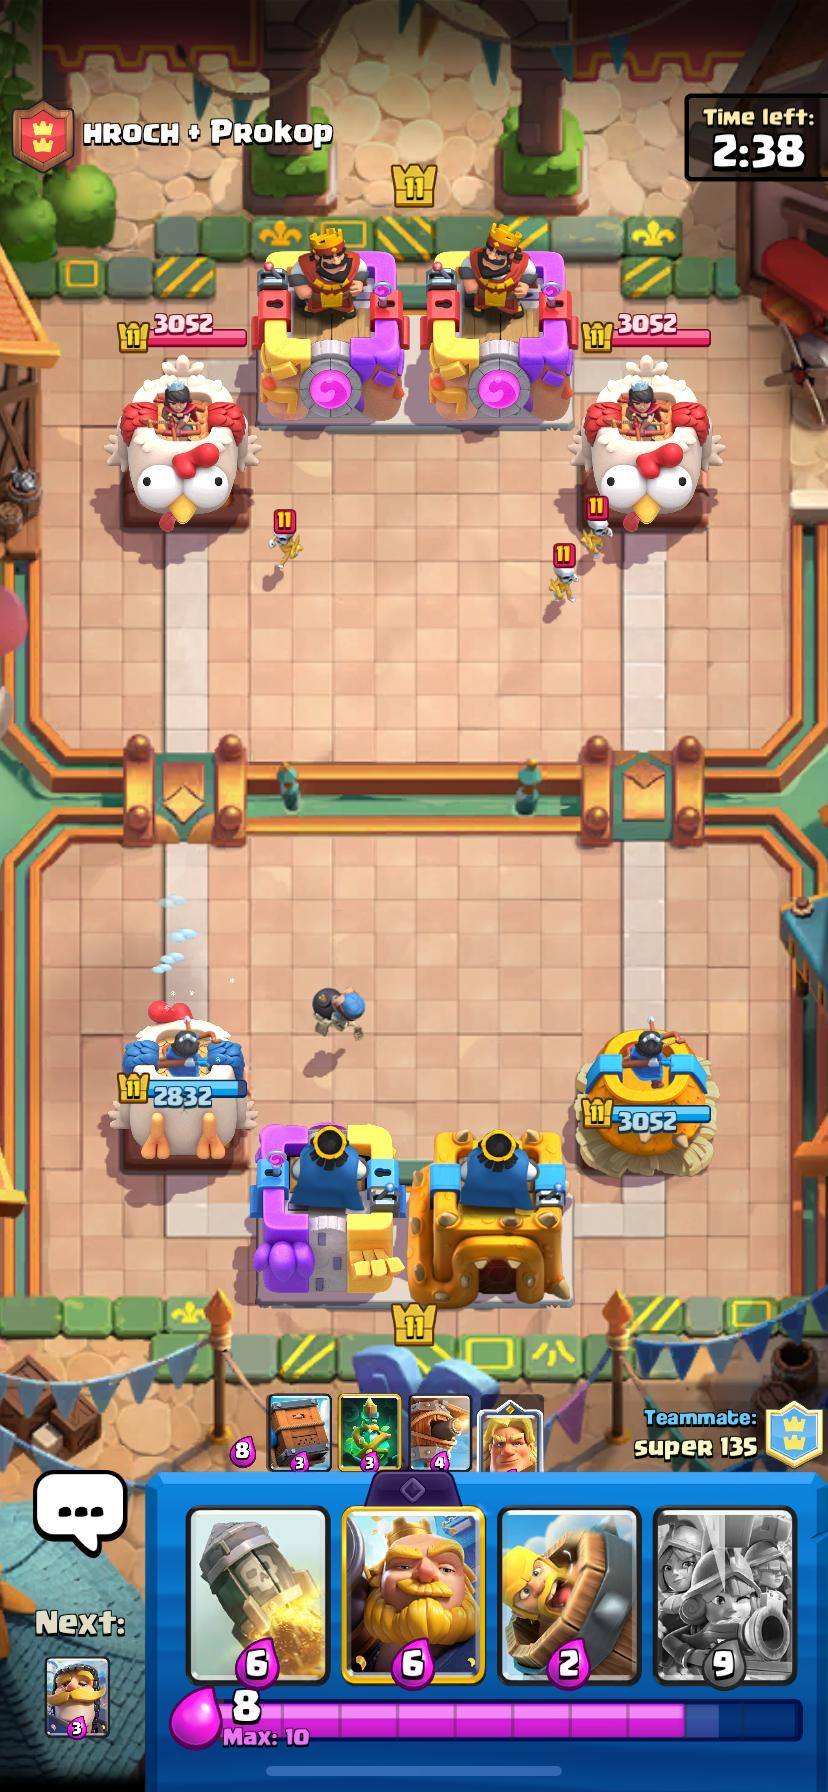EKingTower: (257, 226, 406, 419), (428, 224, 575, 417)
ELarry: (269, 507, 301, 566), (581, 493, 610, 557), (550, 541, 578, 602)
EnemyPrincessTower: (575, 363, 720, 529), (110, 373, 247, 528)
OBomber: (312, 987, 364, 1038)
OwnKingTower: (407, 1129, 571, 1305), (253, 1123, 401, 1301)
OwnPrincessTower: (576, 1019, 716, 1173), (116, 1023, 254, 1159)
